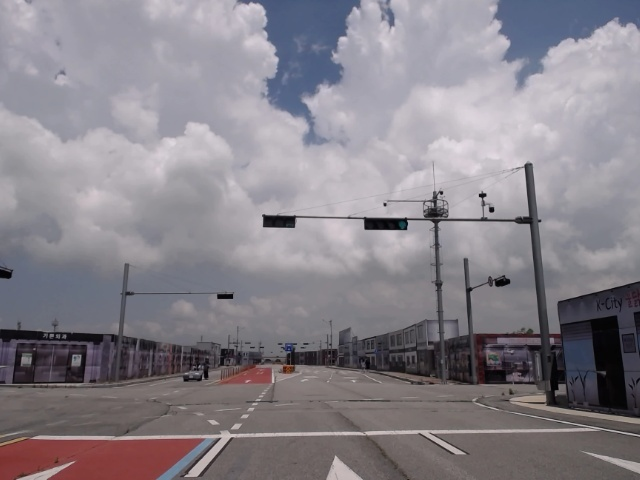straight_green_4: (367, 217, 409, 231)
